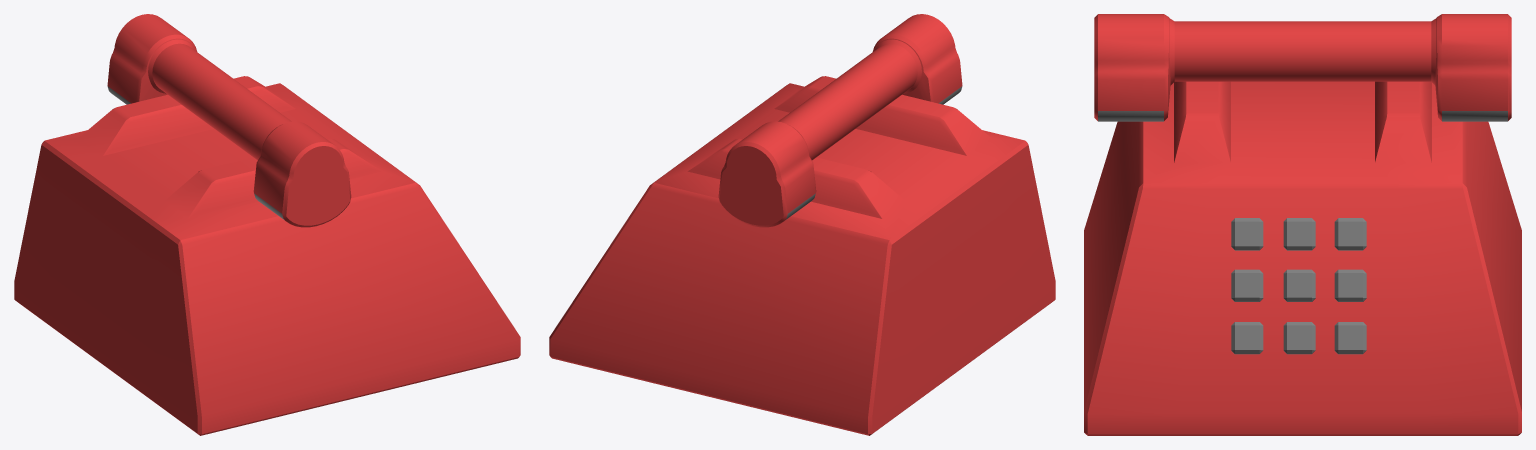
File: phone.fbx
The picture shows the model from 3 angles, left to right: view 1: azimuth 30°, elevation 25°; view 2: azimuth 150°, elevation 25°; view 3: azimuth 270°, elevation 25°; orthographic projection. The views are drawn at different scales.
Parts seen in each view (by area): view 1: Cube; view 2: Cube; view 3: Cube.
Part boxes in pixels (x1,y1,x2,y2): Cube: (14, 14, 520, 435); Cube: (549, 14, 1055, 435); Cube: (1084, 14, 1521, 435).
Bounding box in the file's own units: 86.6 × 66.74 × 86.6.
